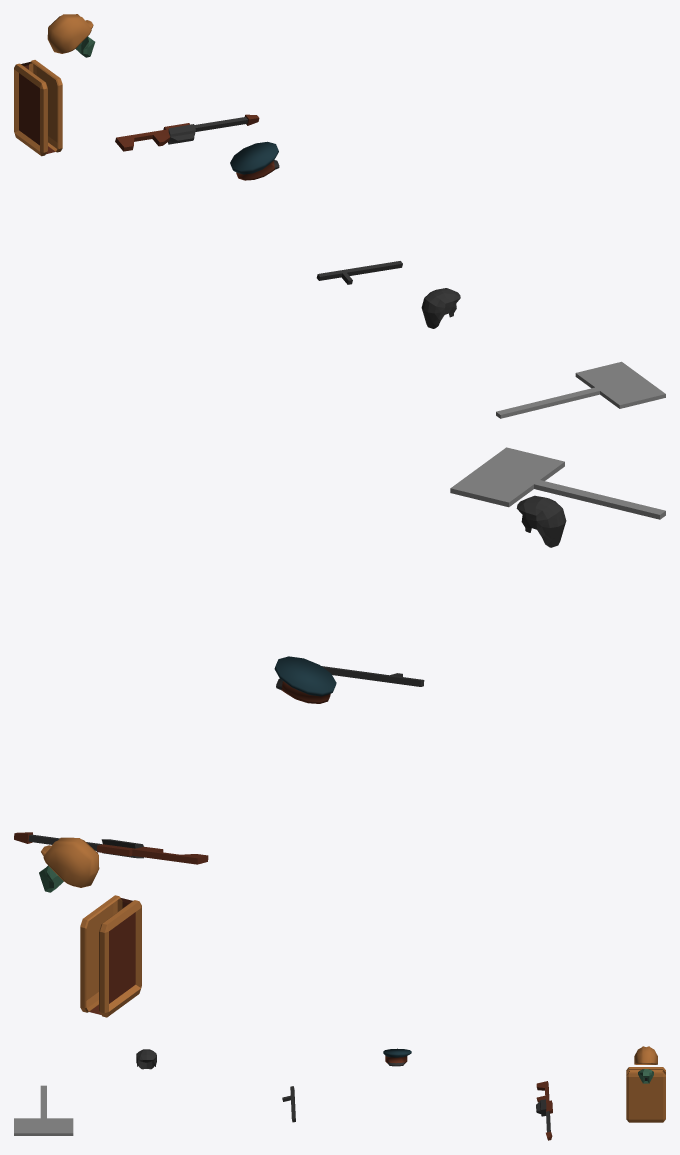
Rendered from mush_item.fbx.
3 renders of one model, top to bottom at view 1: azimuth 30°, elevation 25°; view 2: azimuth 150°, elevation 25°; view 3: azimuth 270°, elevation 25°, orthographic. The views are drawn at different scales.
Parts seen in each view (by area): view 1: builder.camelbag, hippi.table, builder.injector, cop.cap, builder.cap, hippi.heir, cop.clump; view 2: builder.camelbag, hippi.table, cop.cap, builder.cap, builder.injector, hippi.heir, cop.clump; view 3: builder.camelbag, hippi.table, builder.injector, cop.cap, builder.cap, hippi.heir, cop.clump, builder.mask.
Part boxes in pixels (x1=…): builder.camelbag: x1=14, y1=60, x2=62, y2=156; hippi.table: x1=496, y1=361, x2=665, y2=418; builder.injector: x1=115, y1=114, x2=259, y2=151; cop.cap: x1=230, y1=141, x2=279, y2=180; builder.cap: x1=47, y1=14, x2=93, y2=53; hippi.heir: x1=421, y1=288, x2=460, y2=328; cop.clump: x1=316, y1=261, x2=402, y2=284; builder.camelbag: x1=80, y1=895, x2=141, y2=1017; hippi.table: x1=450, y1=447, x2=665, y2=519; cop.cap: x1=274, y1=656, x2=336, y2=703; builder.cap: x1=41, y1=837, x2=99, y2=887; builder.injector: x1=14, y1=832, x2=208, y2=864; hippi.heir: x1=516, y1=495, x2=566, y2=547; cop.clump: x1=321, y1=666, x2=424, y2=686; builder.camelbag: x1=626, y1=1067, x2=665, y2=1122; hippi.table: x1=14, y1=1085, x2=73, y2=1135; builder.injector: x1=536, y1=1081, x2=552, y2=1140; cop.cap: x1=383, y1=1048, x2=411, y2=1066; builder.cap: x1=634, y1=1046, x2=657, y2=1064; hippi.heir: x1=136, y1=1049, x2=156, y2=1069; cop.clump: x1=282, y1=1086, x2=295, y2=1122; builder.mask: x1=638, y1=1069, x2=653, y2=1083.
Bounding box in the file's own units: 105 × 73.14 × 522.
